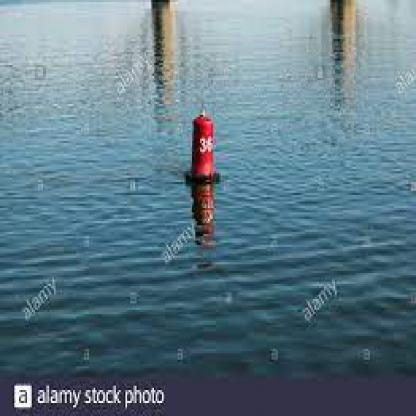Buoy: (185, 110, 222, 189)
